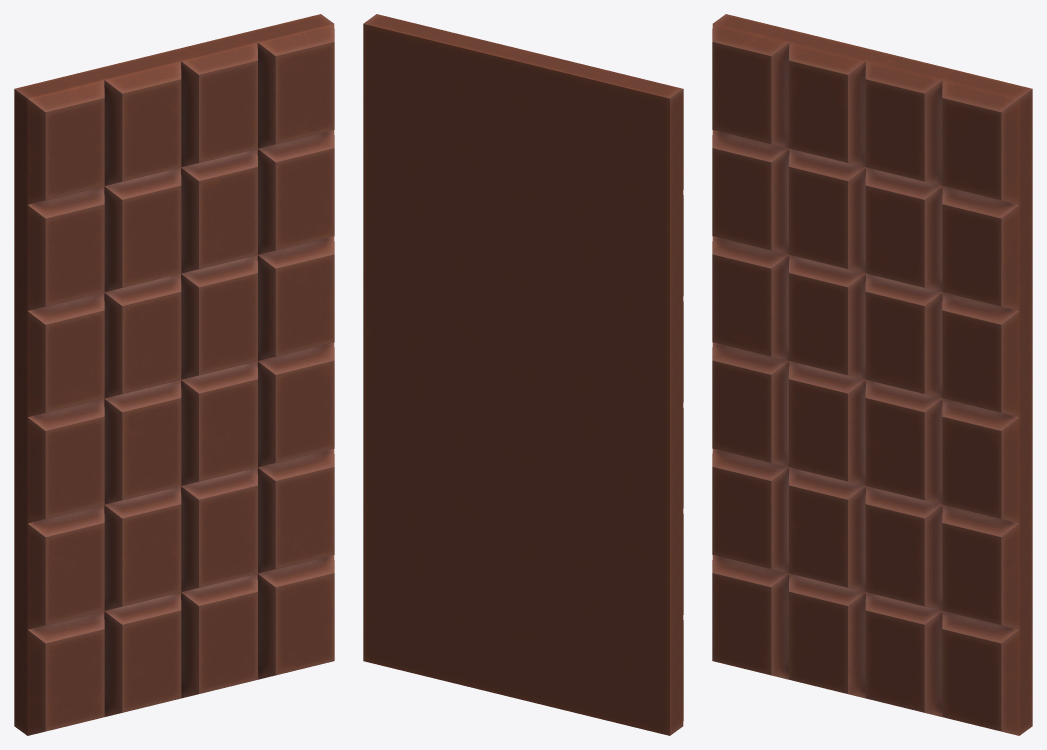
Rendered from chocolate 1.fbx.
3 views of the same model, side by side, from view 1: azimuth 30°, elevation 25°; view 2: azimuth 150°, elevation 25°; view 3: azimuth 330°, elevation 25° (orthographic).
Visible parts, largest first — view 1: Object_2; view 2: Object_2; view 3: Object_2.
Part boxes in pixels (x1,y1,x2,y2): Object_2: [14, 14, 334, 735]; Object_2: [363, 14, 683, 735]; Object_2: [712, 14, 1032, 735].
Bounding box in the file's own units: 0.0725 × 0.144 × 0.00924.
1 material, 1 textured.
